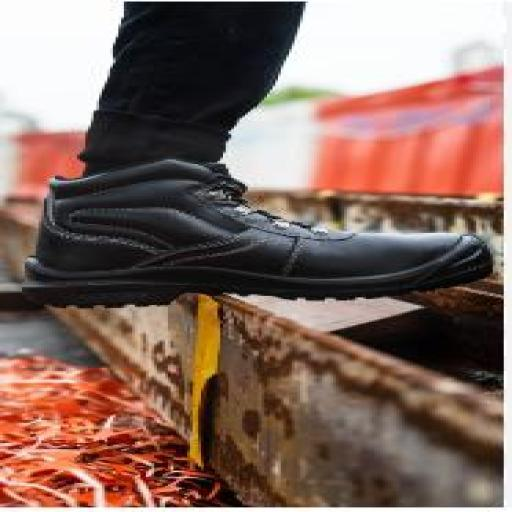safety_boots: (0, 164, 498, 334)
